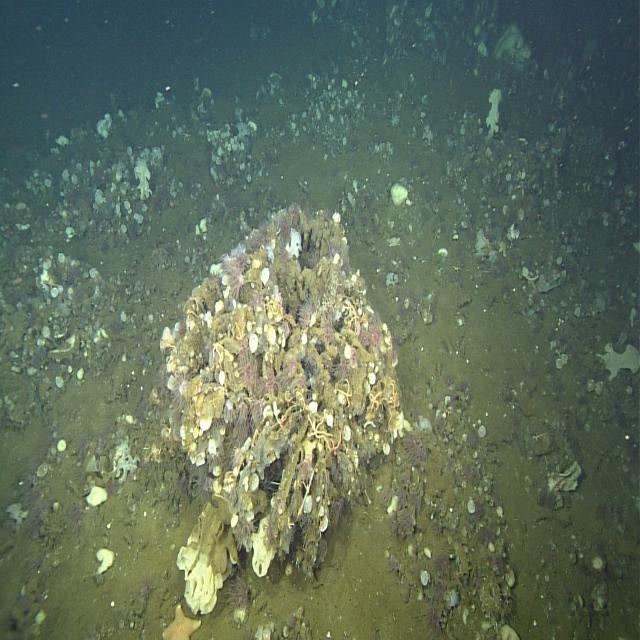Brittle Star: (305, 411, 332, 449), (365, 386, 383, 419), (337, 379, 353, 409)
Not Brittle Star: (175, 494, 244, 618), (251, 514, 276, 578), (109, 438, 139, 481), (484, 86, 506, 138), (131, 156, 154, 203), (225, 574, 250, 613), (234, 517, 258, 556), (223, 263, 247, 301), (401, 427, 423, 468), (169, 371, 188, 414), (260, 509, 277, 552), (248, 392, 266, 431), (86, 482, 109, 511), (586, 546, 607, 575), (294, 452, 313, 482), (96, 107, 112, 140), (390, 178, 408, 205), (294, 300, 311, 328), (221, 395, 237, 423), (35, 462, 51, 482), (302, 493, 313, 516), (478, 423, 487, 439)
